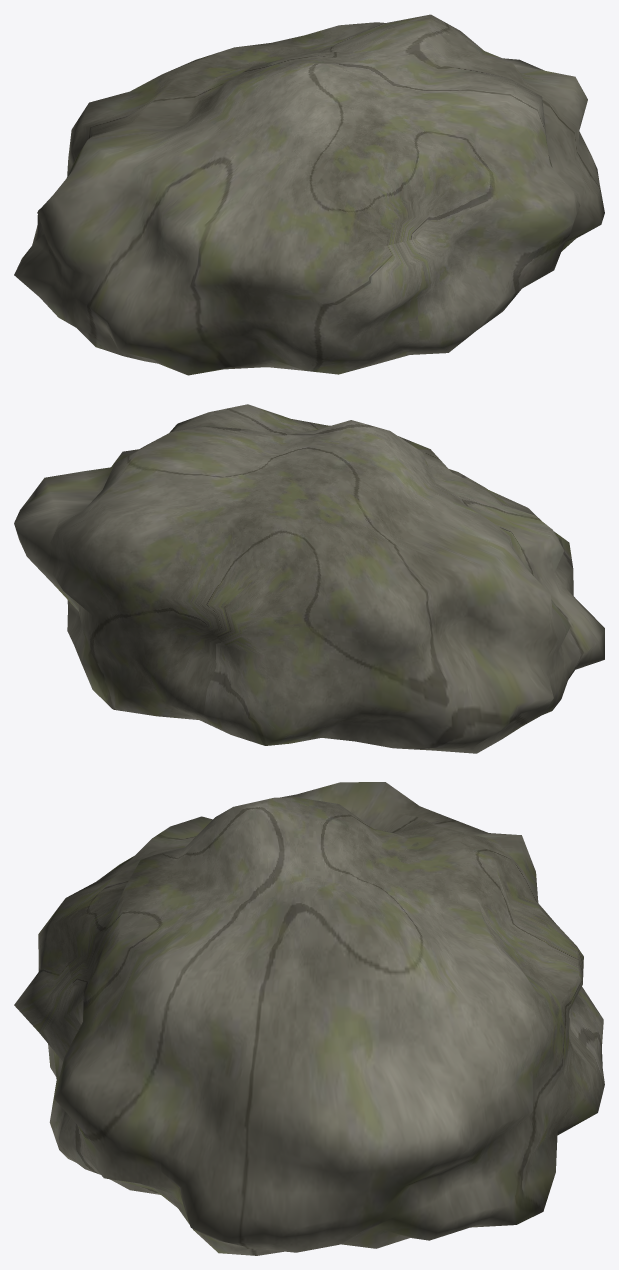
The model's file is garden-rock-0.glb.
3 views of the same model, one above another, from view 1: azimuth 30°, elevation 25°; view 2: azimuth 150°, elevation 25°; view 3: azimuth 270°, elevation 25° (orthographic). The views are drawn at different scales.
Visible parts, largest first — view 1: Eroded stone with mineral texture; view 2: Eroded stone with mineral texture; view 3: Eroded stone with mineral texture.
Part boxes in pixels (x1,y1,x2,y2): Eroded stone with mineral texture: (14,14,604,375); Eroded stone with mineral texture: (14,404,604,753); Eroded stone with mineral texture: (14,782,604,1255).
Bounding box in the file's own units: 2.17 × 0.9365 × 1.58.
1 material, 1 textured.
